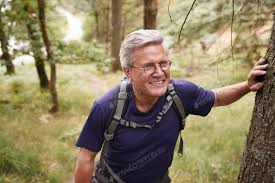white_male: (127, 36, 180, 106)
